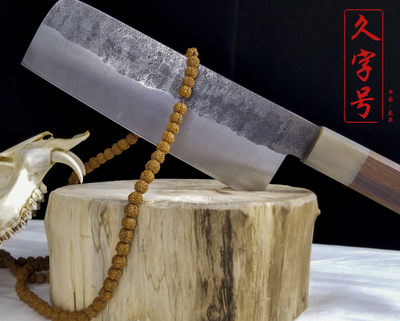knief: (32, 12, 398, 198)
